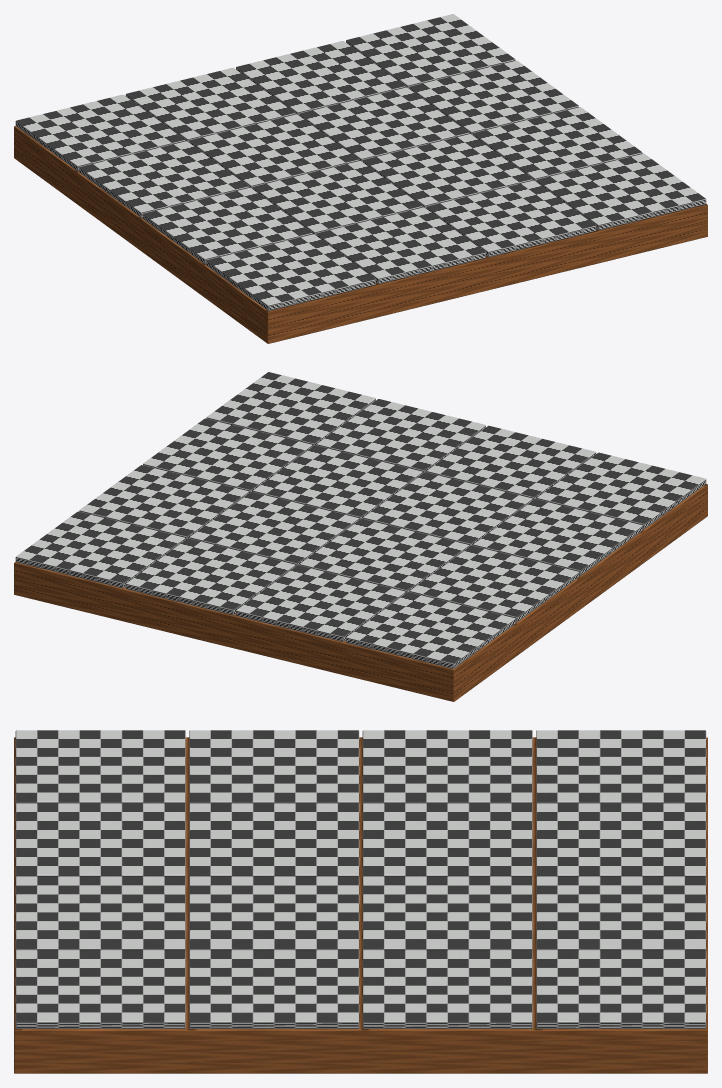
The model's file is paranormal-investigation-house-tile-floor-4a41ee2a__26710.glb.
3 renders of one model, top to bottom at view 1: azimuth 30°, elevation 25°; view 2: azimuth 150°, elevation 25°; view 3: azimuth 270°, elevation 25°, orthographic. The views are drawn at different scales.
Visible parts, largest first — view 1: tile-floor; view 2: tile-floor; view 3: tile-floor.
Part boxes in pixels (left/top/right/bottom): tile-floor: left=14, top=14, right=707, bottom=343; tile-floor: left=14, top=372, right=707, bottom=701; tile-floor: left=14, top=730, right=707, bottom=1073.
Size of the model in its own units: 2 by 0.165 by 2.
Materials: 2 (2 with a texture image).
